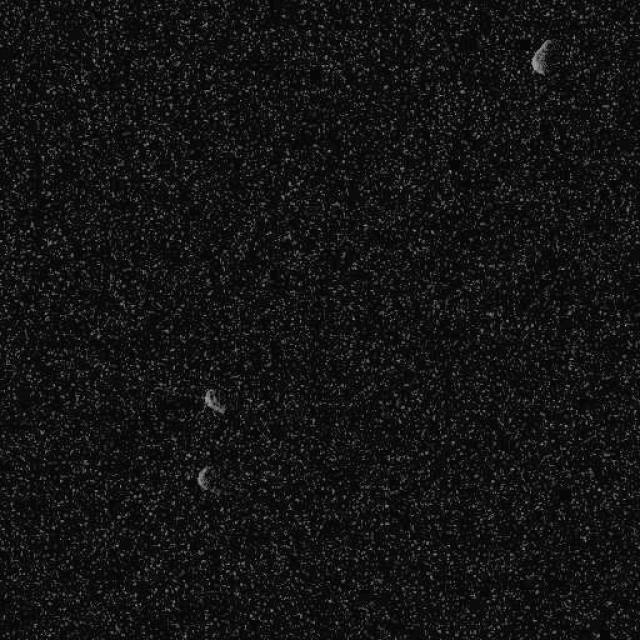D2: (529, 37, 551, 75), (201, 387, 225, 415), (195, 463, 213, 492)
